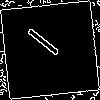I: (25, 25, 69, 65)
